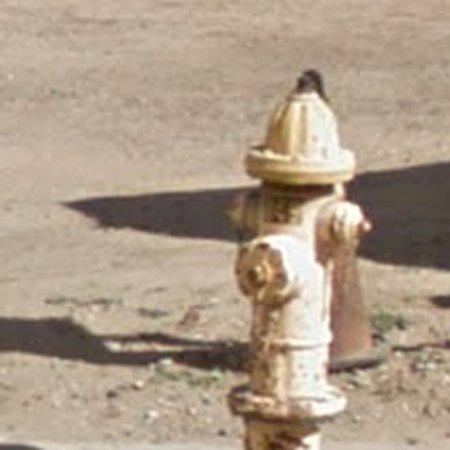a fire hydrant: (230, 69, 378, 449)
